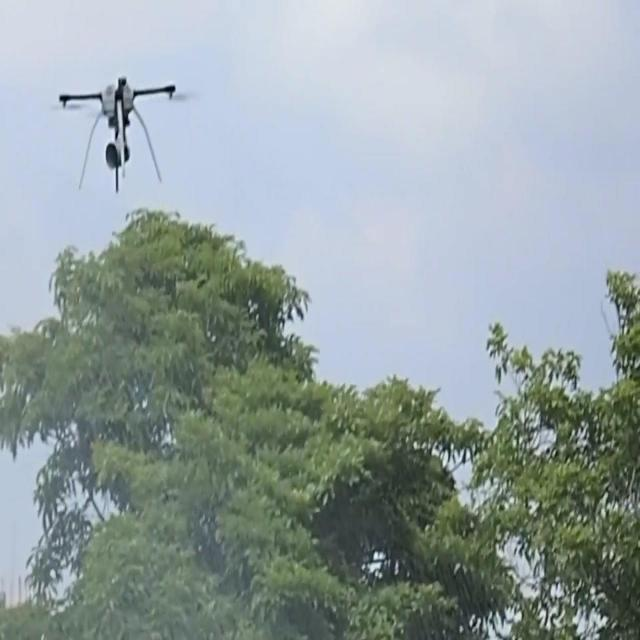UAV: (58, 75, 175, 194)
